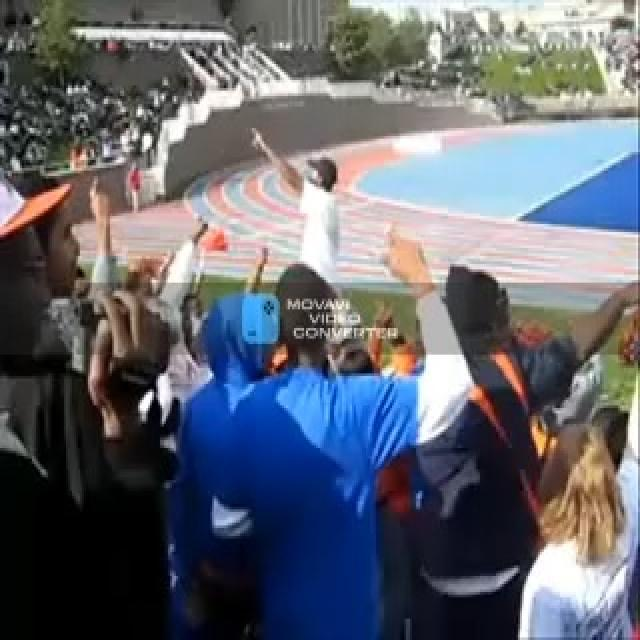non-voilence: (0, 150, 638, 638), (170, 222, 476, 638), (246, 123, 342, 280)
